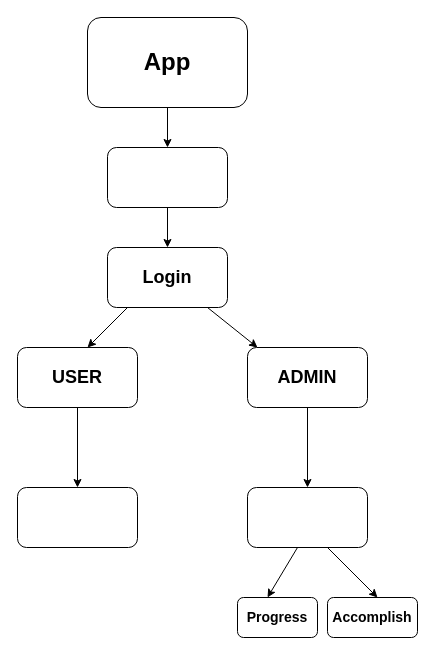
The diagram is 435 pixels wide and 655 high, and some of its shapes have lost their labels. Here are the shapes that lost their labels. From the top down, the centre of each, then its label:
At (x=167, y=177): "Register".
At (x=77, y=517): "Issues - Post".
At (x=307, y=517): "Issues - Update".
